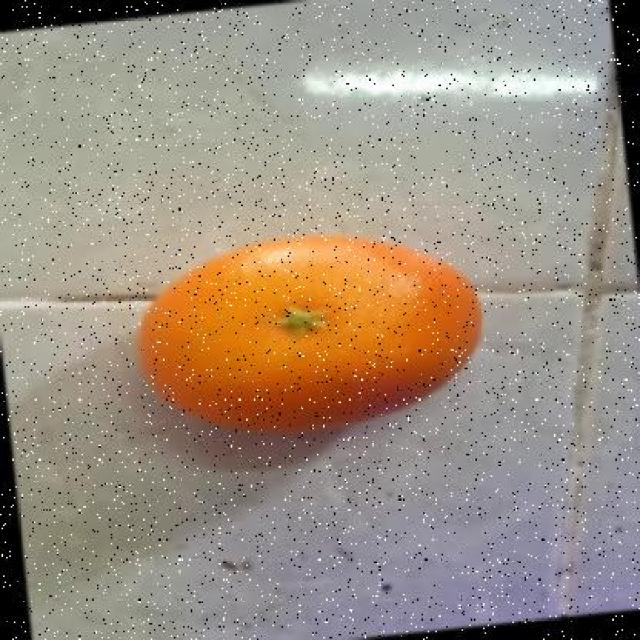Orange: (135, 231, 483, 438)
